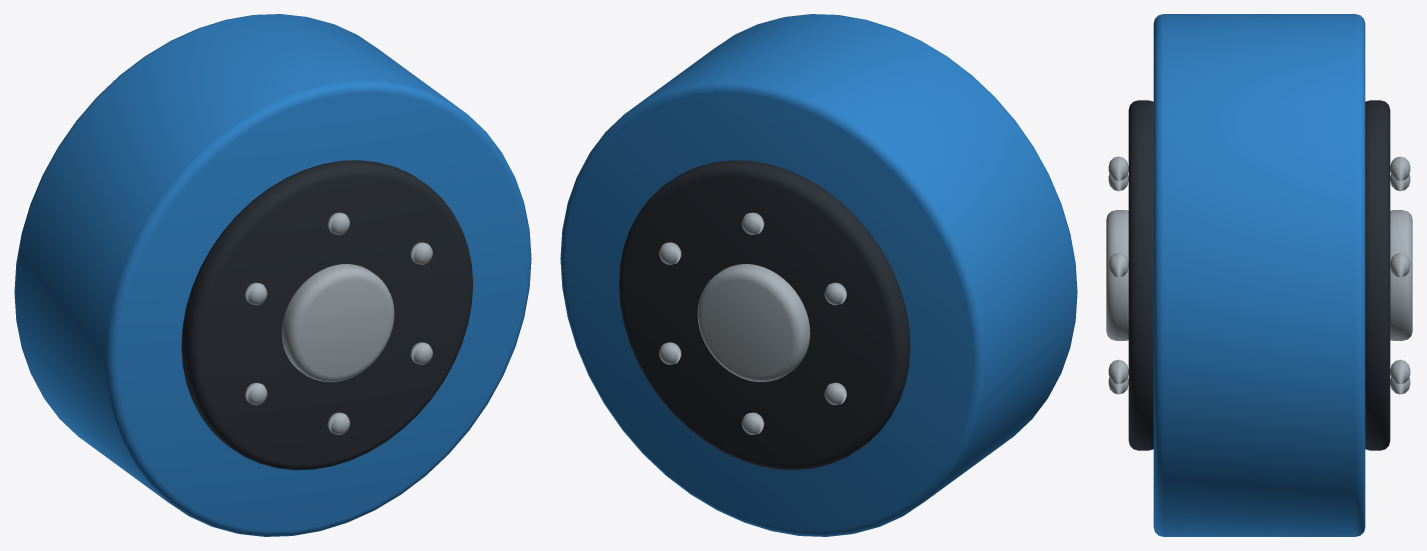
File: SM_AGV_Wheel_Stabilizer_L.fbx
3 renders of one model, left to right at view 1: azimuth 30°, elevation 25°; view 2: azimuth 150°, elevation 25°; view 3: azimuth 270°, elevation 25°, orthographic. The views are drawn at different scales.
Parts seen in each view (by area): view 1: SM_AGV_Wheel_Stabilizer_L.002; view 2: SM_AGV_Wheel_Stabilizer_L.002; view 3: SM_AGV_Wheel_Stabilizer_L.002.
Boxes of the visible parts, x1,y1,x2,y2 form: SM_AGV_Wheel_Stabilizer_L.002: (14,14,531,536); SM_AGV_Wheel_Stabilizer_L.002: (560,14,1077,536); SM_AGV_Wheel_Stabilizer_L.002: (1106,14,1412,536).
Bounding box in the file's own units: 0.21 × 0.123 × 0.21.
